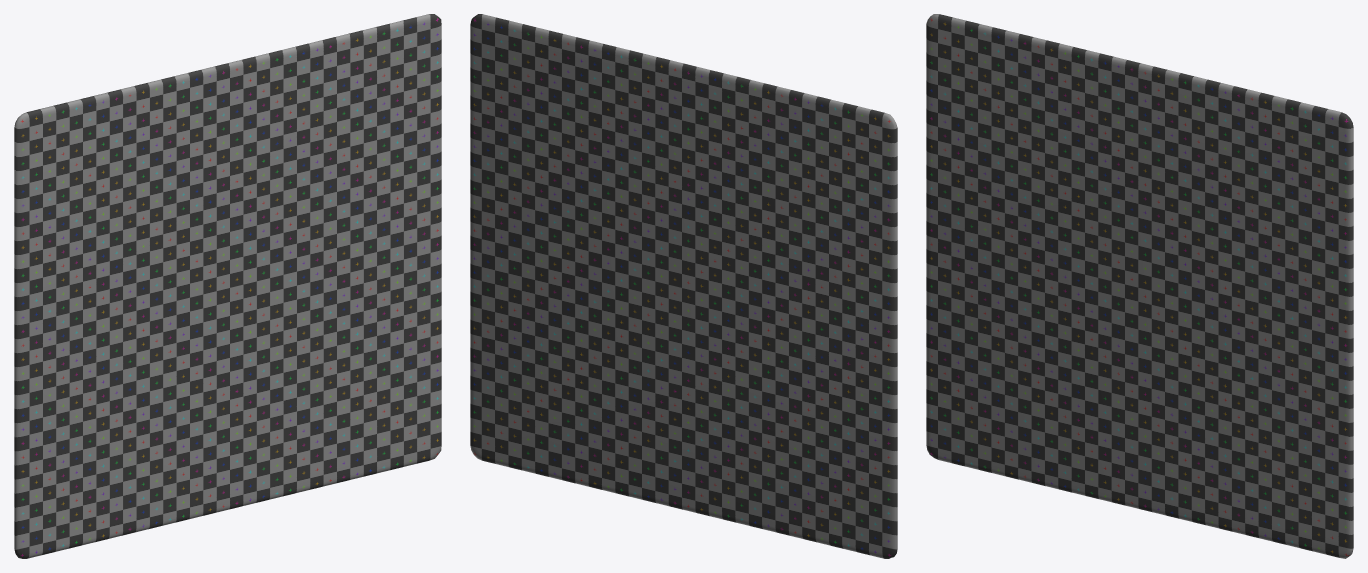
The model's file is chiclet.glb.
The picture shows the model from 3 angles, left to right: view 1: azimuth 30°, elevation 25°; view 2: azimuth 150°, elevation 25°; view 3: azimuth 330°, elevation 25°; orthographic projection.
Visible parts, largest first — view 1: Cube; view 2: Cube; view 3: Cube.
Boxes of the visible parts, box(x1,y1,x2,y2) form: Cube: box(14, 14, 441, 558); Cube: box(470, 14, 897, 558); Cube: box(926, 14, 1353, 558).
Bounding box in the file's own units: 0.9997 × 0.9989 × 0.0146.
Materials: 1 (1 with a texture image).
